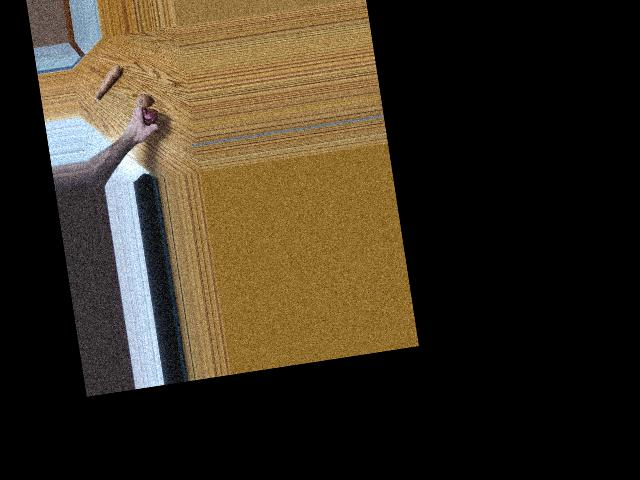onion: (131, 93, 151, 112)
